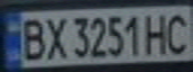1: (121, 11, 145, 56)
2: (87, 12, 109, 59)
3: (66, 12, 90, 61)
5: (106, 11, 127, 57)
B: (15, 15, 48, 62)
C: (163, 9, 193, 55)
H: (142, 10, 172, 55)
X: (42, 14, 69, 61)
